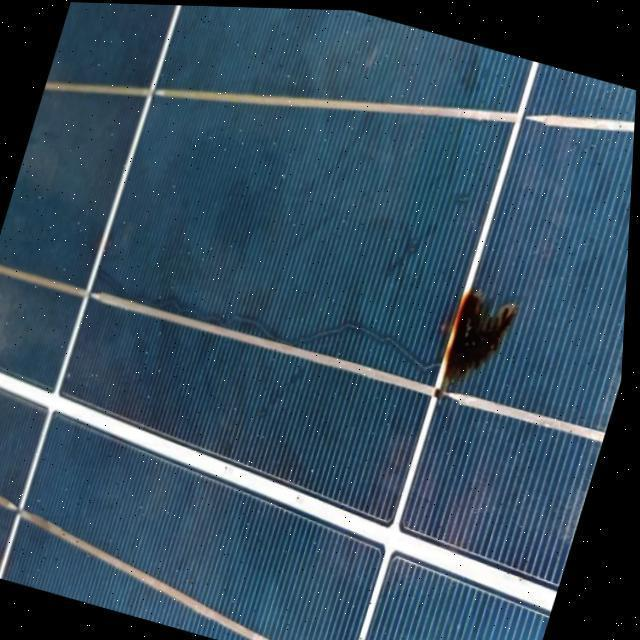Anomaly Solar Panel: (0, 2, 637, 640)
Structural Damage: (149, 280, 450, 369), (438, 266, 542, 400), (382, 207, 444, 284), (18, 576, 54, 590)
